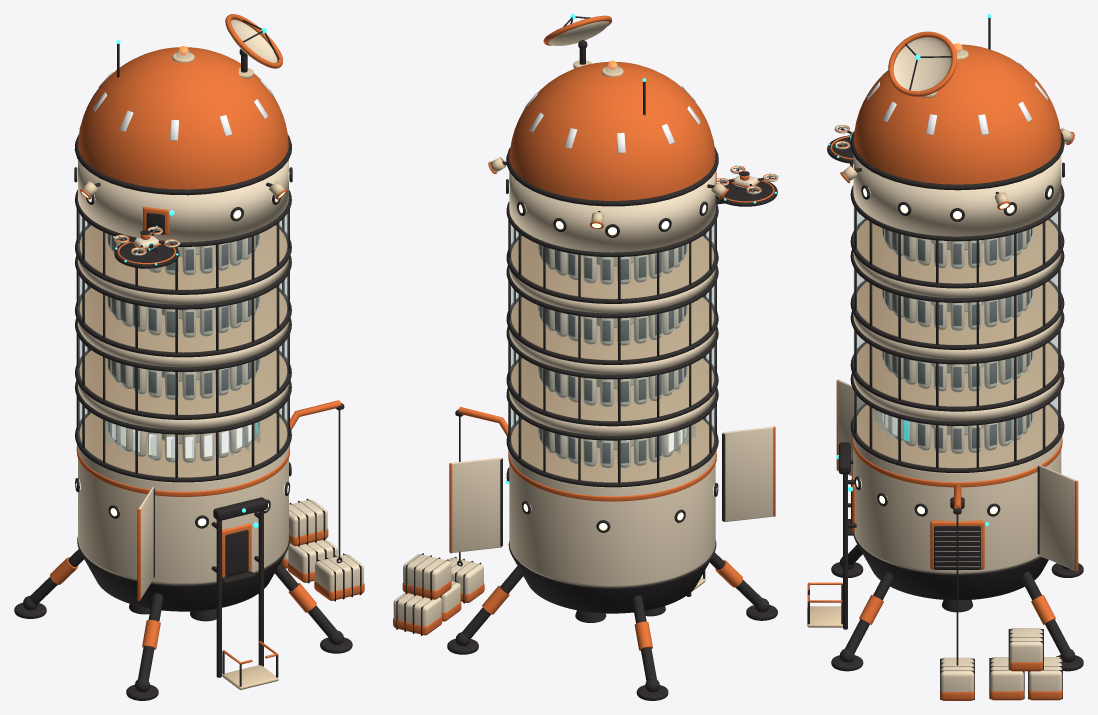
The model's file is ark-18.glb.
3 renders of one model, left to right at view 1: azimuth 30°, elevation 25°; view 2: azimuth 150°, elevation 25°; view 3: azimuth 270°, elevation 25°, orthographic. The views are drawn at different scales.
Visible parts, largest first — view 1: Cone, parked_drone; view 2: Cone, parked_drone; view 3: Cone.
Part boxes in pixels (<box>): Cone: <box>14,14,364,700</box>; parked_drone: <box>113,225,180,256</box>; Cone: <box>393,14,777,700</box>; parked_drone: <box>716,164,778,195</box>; Cone: <box>807,14,1083,700</box>.
Bounding box in the file's own units: 4.11 × 8.31 × 3.46.
